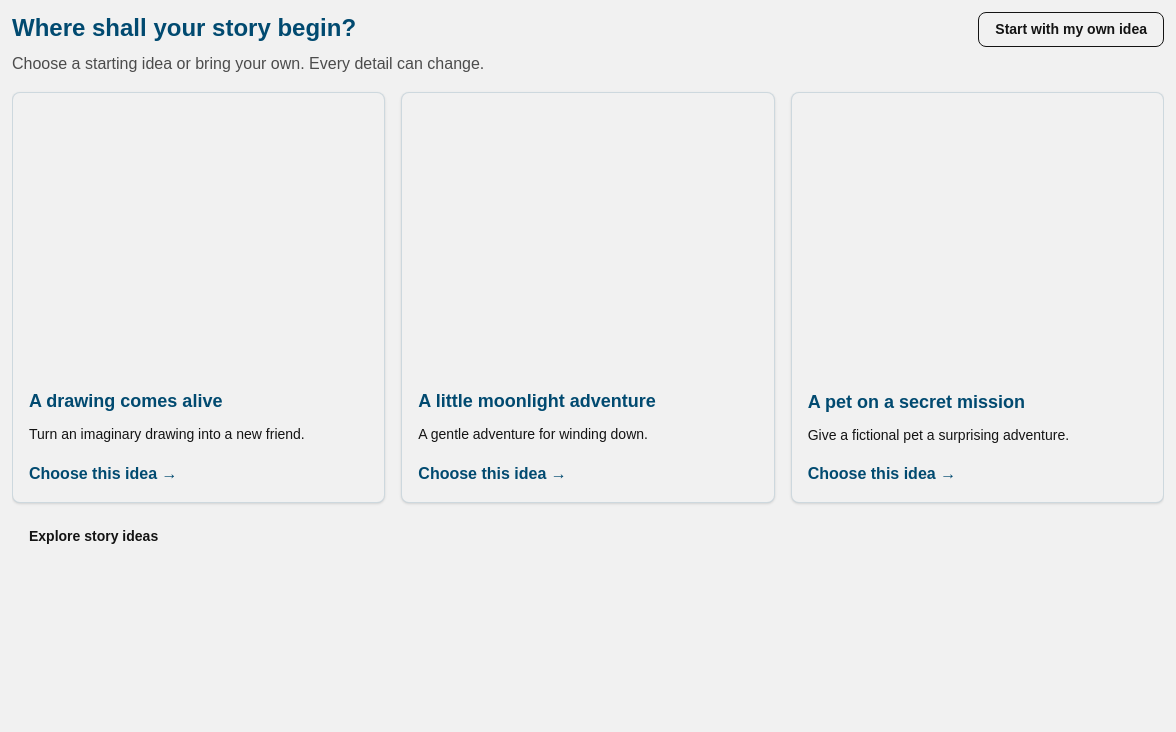
it: StoryTemplatePicker › selects a ready premise without requesting the optional guide
This screenshot has width=1176, height=732.
Click the button "A drawing comes alive".
click(199, 298)  # box top-left (12, 92), bottom-right (385, 503)
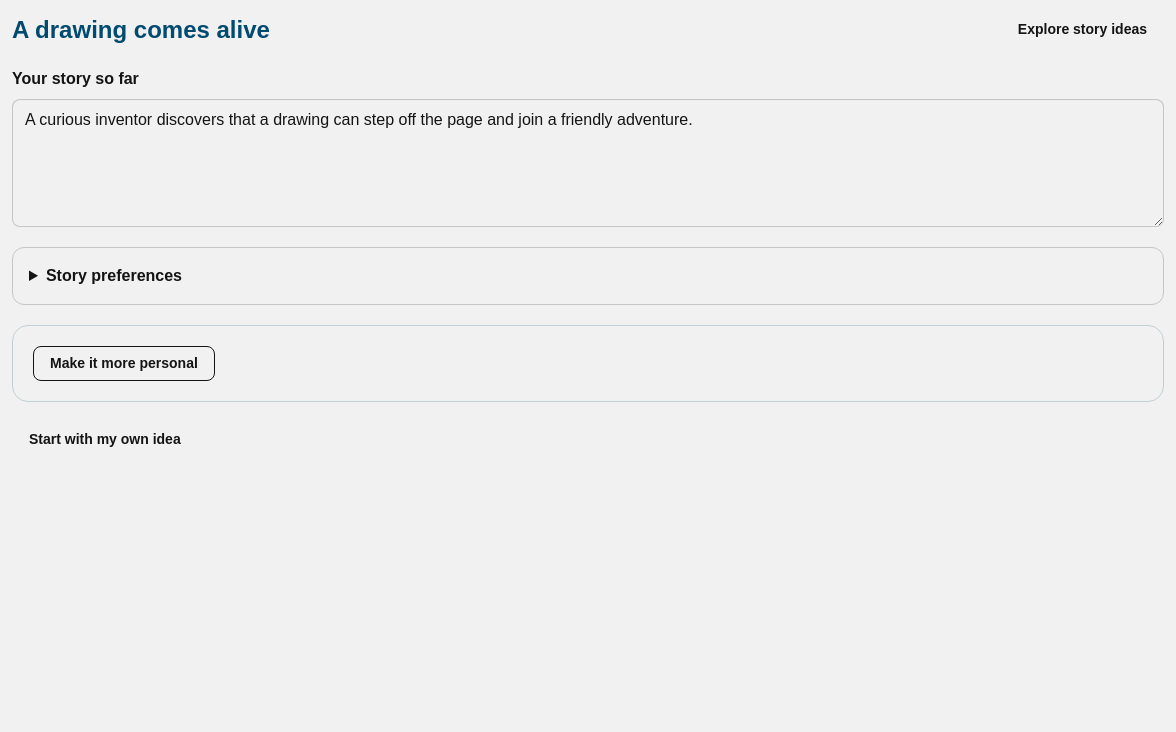
Expected: the text box labelled "Your story so far" holds "A curious inventor discovers that a drawing can step off the page and join a friendly adventure.", top-left (12, 99), bottom-right (1164, 227)
Expected: the button "Make it more personal" is enabled, top-left (33, 346), bottom-right (215, 381)
